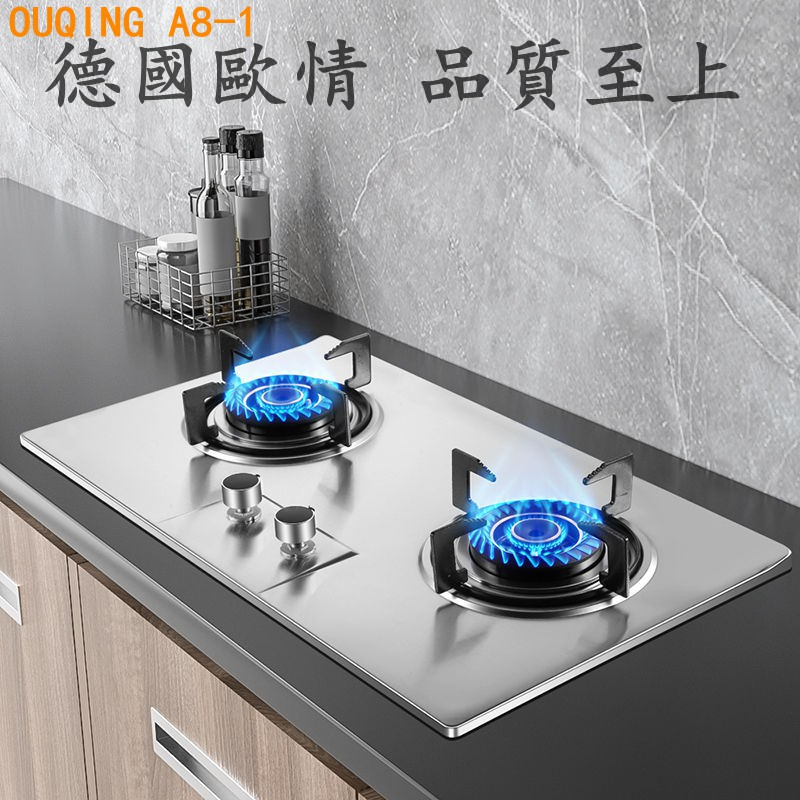gasoven: (12, 324, 791, 736)
